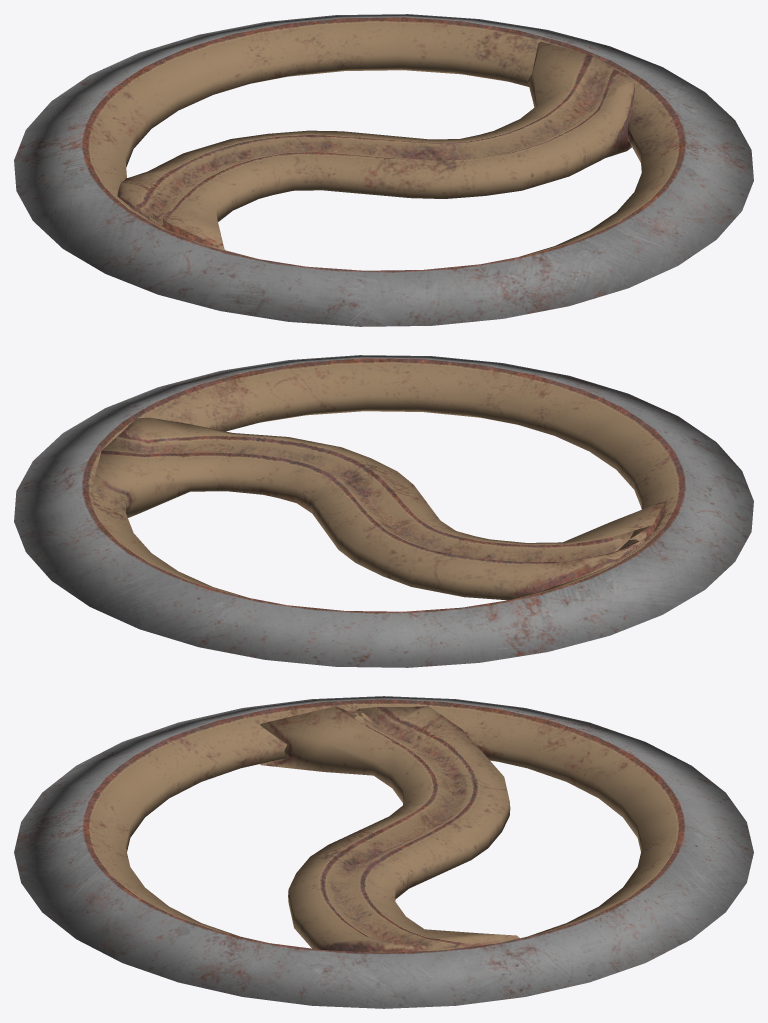
The model's file is w_chakram__chakram.glb.
The picture shows the model from 3 angles, top to bottom: view 1: azimuth 30°, elevation 25°; view 2: azimuth 150°, elevation 25°; view 3: azimuth 270°, elevation 25°; orthographic projection.
Visible parts, largest first — view 1: lp; view 2: lp; view 3: lp.
Part boxes in pixels (left/top/right/bottom): lp: left=14, top=14, right=753, bottom=326; lp: left=14, top=355, right=753, bottom=667; lp: left=14, top=696, right=753, bottom=1008.
Size of the model in its own units: 40 by 3.76 by 40.
1 material, 1 textured.
